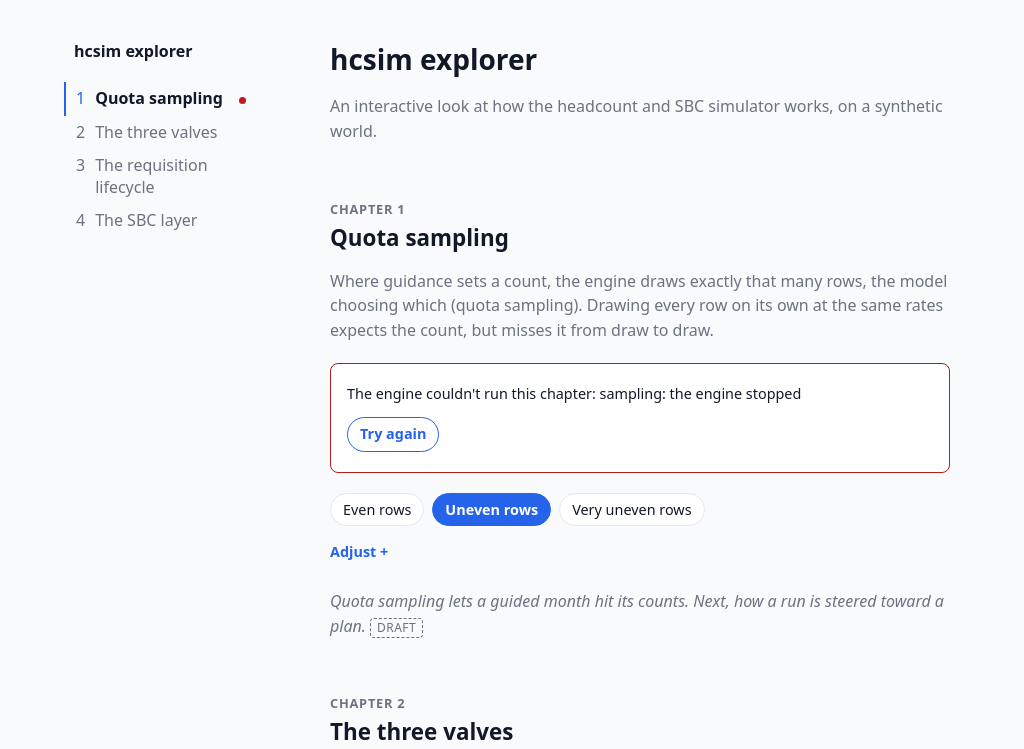
Test: the story › keeps a failed run in its own chapter, which can try again, while the others carry on
The width and height of the screenshot is (1024, 749).
Expected: the message shows "sampling: the engine stopped", [600,384,801,403]
Expected: the link named "Quota sampling (failed)" is shown, [64,82,274,116]
Click the button "Try again": (393,434) [347,417,439,452]
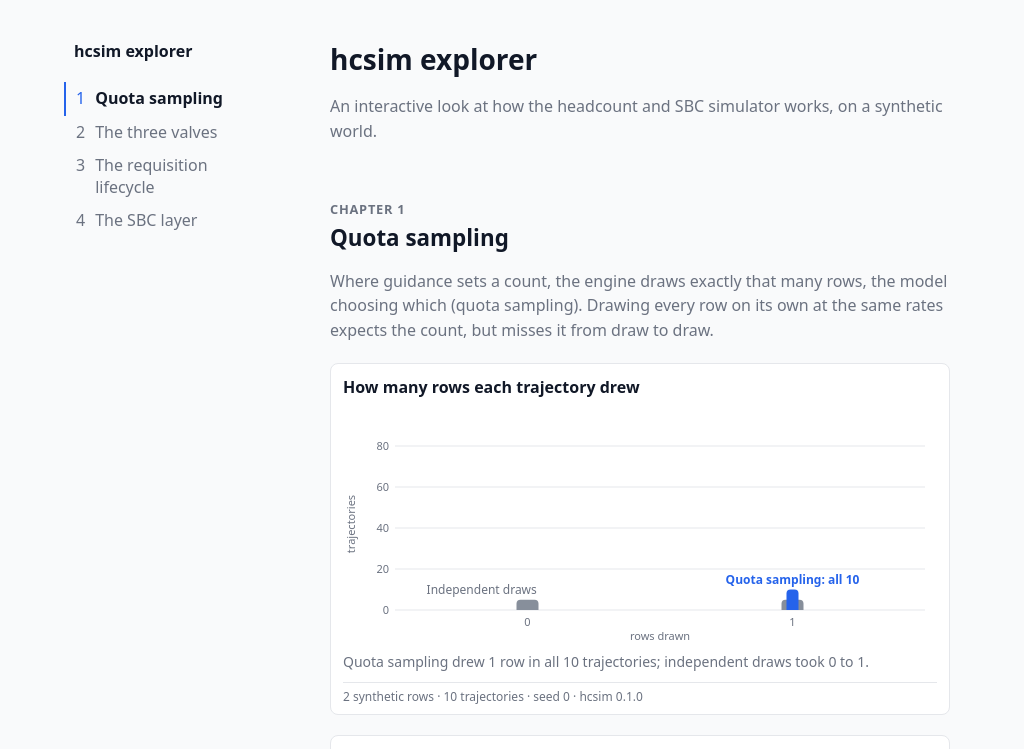
Expected: the text "Quota sampling drew 1 row" is shown, [343,652,869,671]
